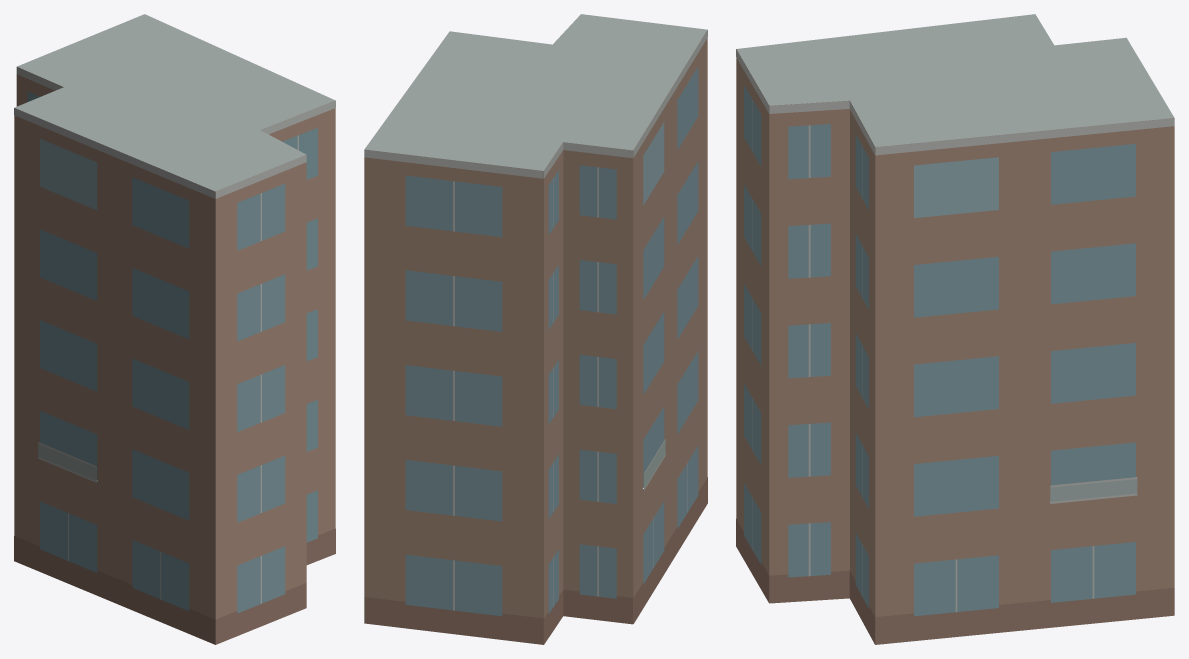
Rendered from survey-upis-32816062.glb.
3 renders of one model, left to right at view 1: azimuth 30°, elevation 25°; view 2: azimuth 150°, elevation 25°; view 3: azimuth 270°, elevation 25°, orthographic. The views are drawn at different scales.
Parts seen in each view (by area): view 1: survey-upis-32816062.tmp; view 2: survey-upis-32816062.tmp; view 3: survey-upis-32816062.tmp.
Boxes of the visible parts, x1,y1,x2,y2 form: survey-upis-32816062.tmp: [14, 14, 335, 644]; survey-upis-32816062.tmp: [364, 14, 707, 644]; survey-upis-32816062.tmp: [736, 14, 1174, 644].
Size of the model in its own units: 8.51 by 14.8 by 11.83.
